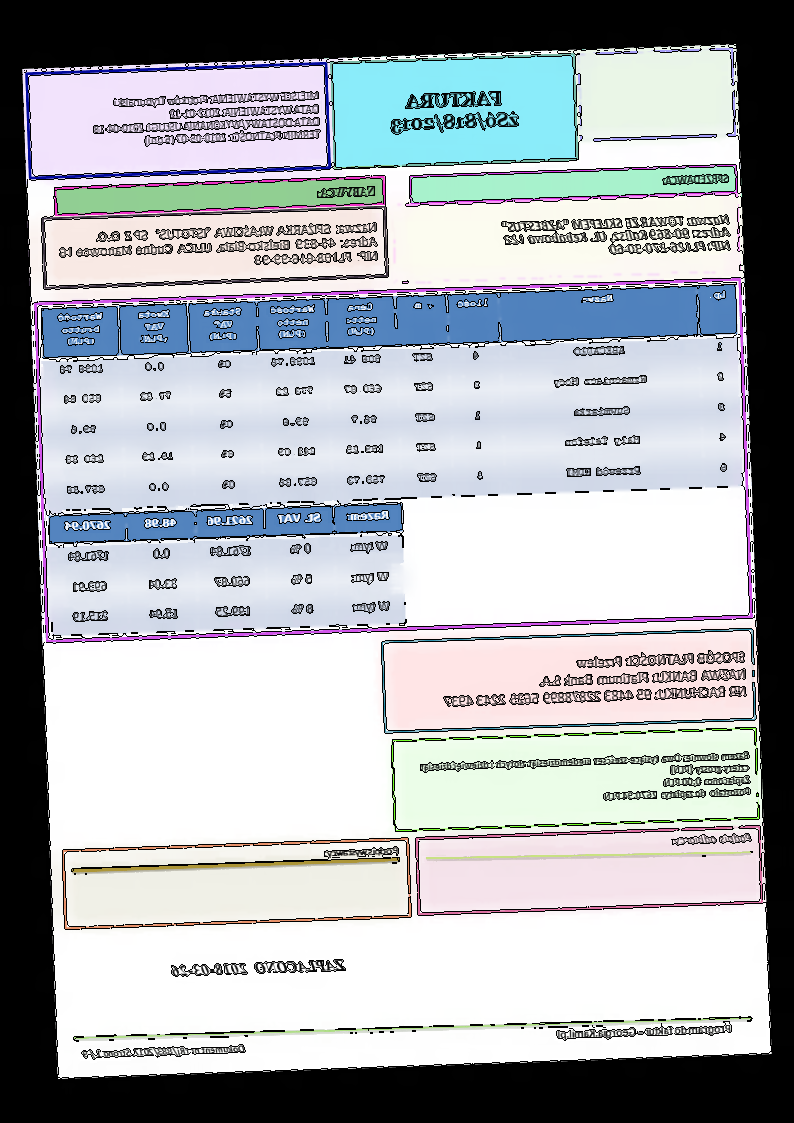Table: (40, 283, 745, 512), (48, 502, 408, 636)
TextBox: (440, 646, 749, 711), (418, 750, 753, 809), (57, 220, 381, 275), (91, 86, 323, 150), (501, 213, 733, 260), (387, 88, 522, 136), (169, 955, 349, 980), (556, 1020, 733, 1042), (81, 1042, 247, 1063), (669, 830, 755, 850), (324, 845, 401, 861), (661, 171, 732, 188), (315, 184, 378, 201)
